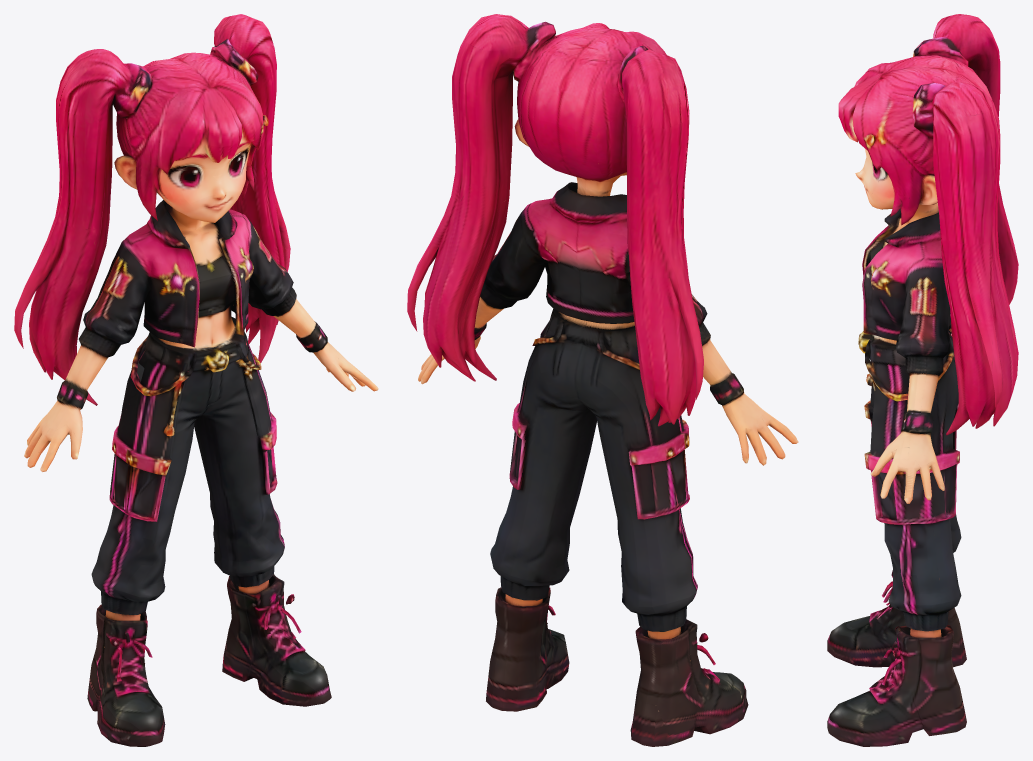
Rendered from mira.fbx.
3 views of the same model, side by side, from view 1: azimuth 30°, elevation 25°; view 2: azimuth 150°, elevation 25°; view 3: azimuth 270°, elevation 25° (orthographic). The views are drawn at different scales.
Parts seen in each view (by area): view 1: model; view 2: model; view 3: model.
Part boxes in pixels (x1,y1,x2,y2): model: [14, 14, 378, 746]; model: [407, 14, 798, 746]; model: [827, 14, 1018, 746].
Bounding box in the file's own units: 103 × 190 × 50.84.
